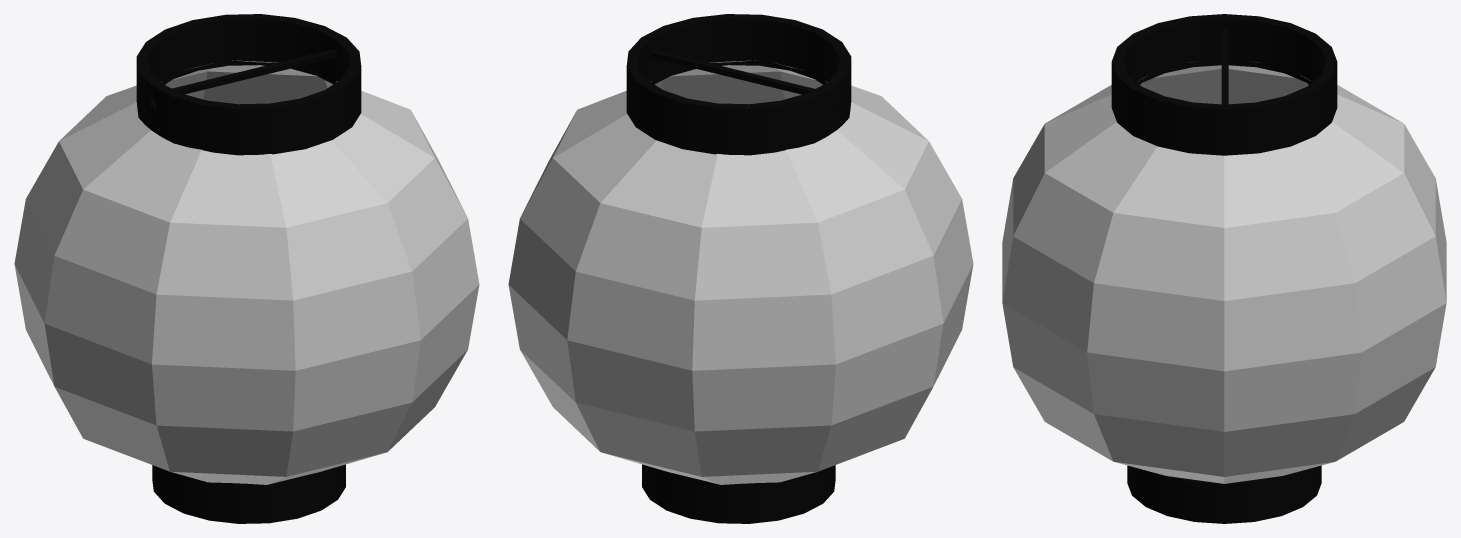
The model's file is Lantern.fbx.
3 renders of one model, left to right at view 1: azimuth 30°, elevation 25°; view 2: azimuth 150°, elevation 25°; view 3: azimuth 270°, elevation 25°, orthographic.
Parts seen in each view (by area): view 1: polySurface4, polySurface5, polySurface6, polySurface1; view 2: polySurface4, polySurface5, polySurface6, polySurface1; view 3: polySurface4, polySurface5, polySurface6, polySurface1.
Part boxes in pixels (x1=…): polySurface4: x1=14, y1=60, x2=479, y2=484; polySurface5: x1=136, y1=14, x2=361, y2=155; polySurface6: x1=152, y1=464, x2=345, y2=523; polySurface1: x1=172, y1=49, x2=336, y2=94; polySurface4: x1=508, y1=60, x2=973, y2=484; polySurface5: x1=626, y1=14, x2=851, y2=155; polySurface6: x1=642, y1=464, x2=835, y2=523; polySurface1: x1=650, y1=49, x2=814, y2=94; polySurface4: x1=1002, y1=61, x2=1446, y2=483; polySurface5: x1=1111, y1=14, x2=1337, y2=155; polySurface6: x1=1127, y1=465, x2=1321, y2=523; polySurface1: x1=1221, y1=29, x2=1228, y2=104.
Size of the model in its own units: 7.87 by 7.83 by 7.49.
